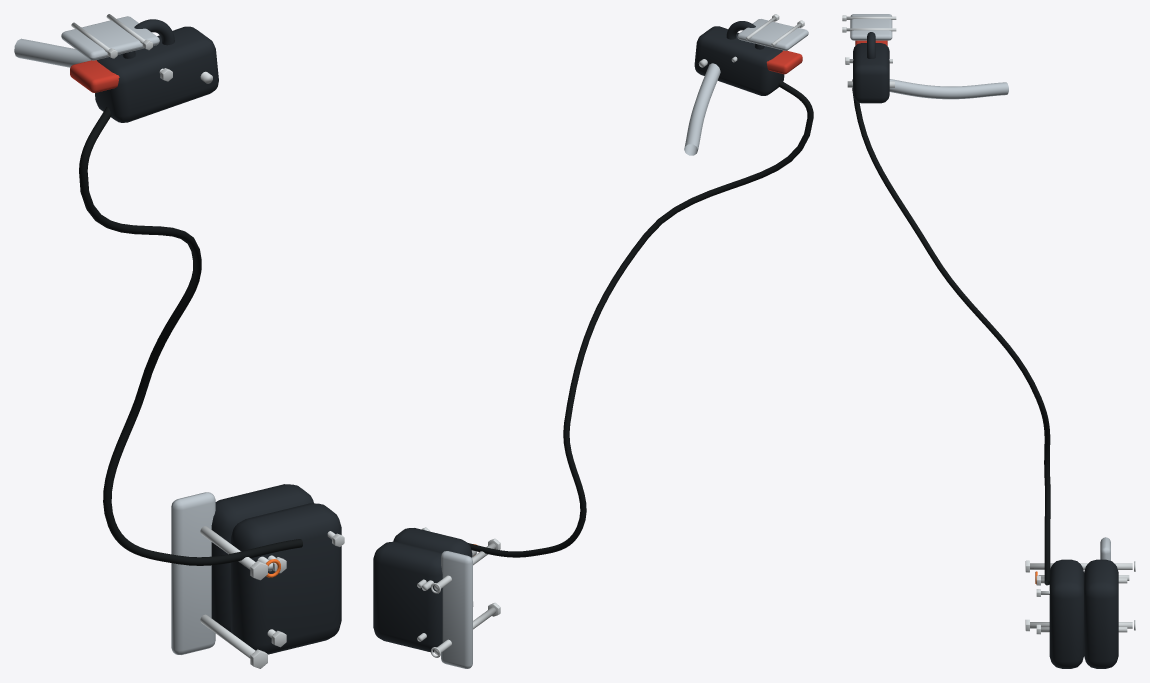
Rendered from brake_front_LOD0.fbx.
3 views of the same model, side by side, from view 1: azimuth 30°, elevation 25°; view 2: azimuth 150°, elevation 25°; view 3: azimuth 270°, elevation 25° (orthographic). The views are drawn at different scales.
Visible parts, largest first — view 1: MM_brake_front_caliper_half_1, MM_brake_front_lever_body, MM_brake_front_hose, MM_brake_front_mount_adapter, MM_brake_front_caliper_half_2, MM_brake_front_reservoir_cap, MM_brake_front_lever_blade, MM_brake_front_reservoir_diaphragm, MM_brake_front_mount_bolt_1, MM_brake_front_mount_bolt_2, MM_brake_front_lever_clamp; view 2: MM_brake_front_caliper_half_2, MM_brake_front_hose, MM_brake_front_lever_body, MM_brake_front_mount_adapter, MM_brake_front_lever_blade, MM_brake_front_reservoir_cap, MM_brake_front_caliper_half_1; view 3: MM_brake_front_caliper_half_2, MM_brake_front_caliper_half_1, MM_brake_front_hose, MM_brake_front_lever_body, MM_brake_front_lever_blade, MM_brake_front_reservoir_cap.
Boxes of the visible parts, x1=… form: MM_brake_front_caliper_half_1: x1=231, y1=503, x2=341, y2=654; MM_brake_front_lever_body: x1=95, y1=26, x2=218, y2=122; MM_brake_front_hose: x1=79, y1=107, x2=302, y2=565; MM_brake_front_mount_adapter: x1=171, y1=492, x2=215, y2=654; MM_brake_front_caliper_half_2: x1=211, y1=484, x2=313, y2=632; MM_brake_front_reservoir_cap: x1=61, y1=16, x2=159, y2=60; MM_brake_front_lever_blade: x1=14, y1=38, x2=90, y2=67; MM_brake_front_reservoir_diaphragm: x1=70, y1=60, x2=119, y2=92; MM_brake_front_mount_bolt_1: x1=200, y1=614, x2=267, y2=668; MM_brake_front_mount_bolt_2: x1=200, y1=526, x2=267, y2=580; MM_brake_front_lever_clamp: x1=122, y1=19, x2=174, y2=58; MM_brake_front_caliper_half_2: x1=373, y1=541, x2=442, y2=652; MM_brake_front_hose: x1=468, y1=80, x2=813, y2=557; MM_brake_front_lever_body: x1=694, y1=26, x2=784, y2=95; MM_brake_front_mount_adapter: x1=441, y1=551, x2=472, y2=668; MM_brake_front_lever_blade: x1=684, y1=63, x2=720, y2=155; MM_brake_front_reservoir_cap: x1=737, y1=19, x2=808, y2=50; MM_brake_front_caliper_half_1: x1=393, y1=528, x2=472, y2=557; MM_brake_front_caliper_half_2: x1=1084, y1=559, x2=1118, y2=668; MM_brake_front_caliper_half_1: x1=1049, y1=559, x2=1083, y2=668; MM_brake_front_hose: x1=852, y1=79, x2=1050, y2=585; MM_brake_front_lever_body: x1=853, y1=43, x2=889, y2=103; MM_brake_front_lever_blade: x1=889, y1=79, x2=1008, y2=99; MM_brake_front_reservoir_cap: x1=850, y1=14, x2=892, y2=40.
Size of the model in its own units: 0.2947 by 0.5515 by 0.2719.
